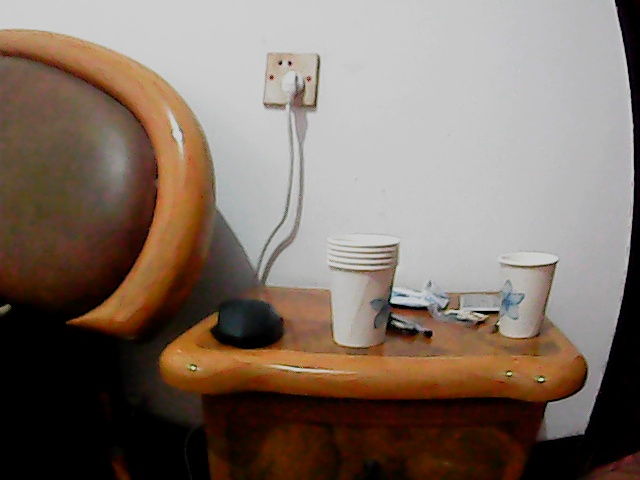cup: (323, 234, 401, 348)
mouse: (209, 293, 283, 349)
